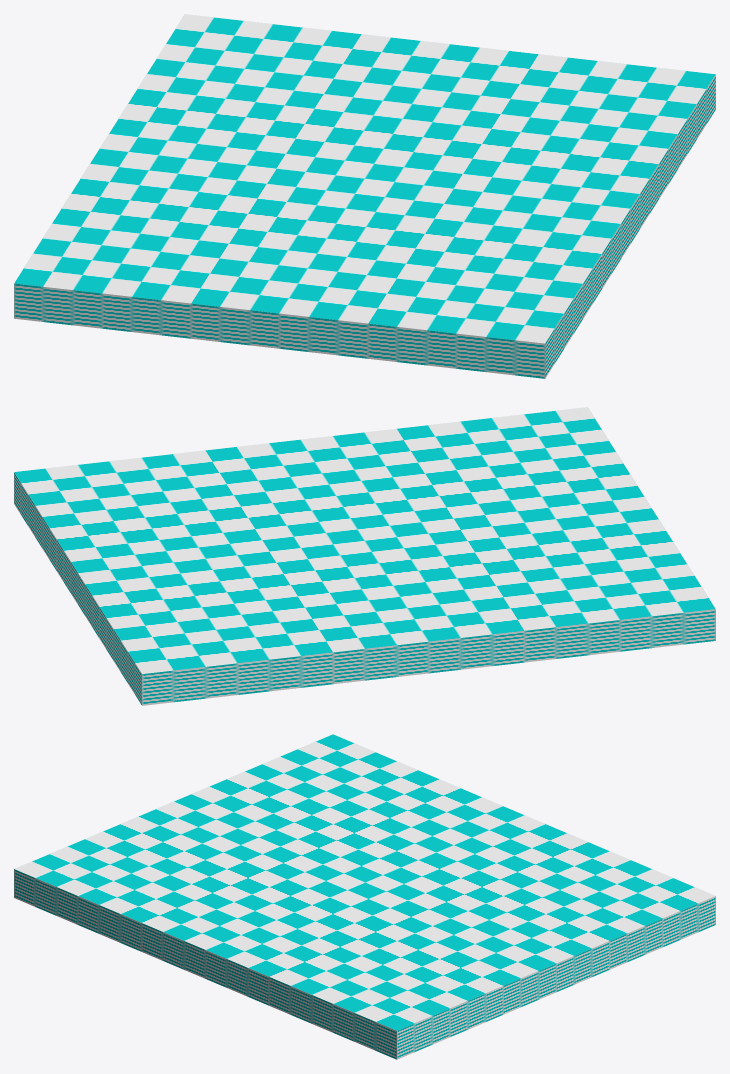
The model's file is CorridorRoof_01.fbx.
3 renders of one model, top to bottom at view 1: azimuth 30°, elevation 25°; view 2: azimuth 150°, elevation 25°; view 3: azimuth 270°, elevation 25°, orthographic. The views are drawn at different scales.
Parts seen in each view (by area): view 1: CorridorRoof_01; view 2: CorridorRoof_01; view 3: CorridorRoof_01.
Part boxes in pixels (x1,y1,x2,y2): CorridorRoof_01: [14, 14, 715, 378]; CorridorRoof_01: [14, 407, 715, 705]; CorridorRoof_01: [14, 734, 715, 1059].
Size of the model in its own units: 433 by 433 by 19.69.
1 material, 1 textured.
